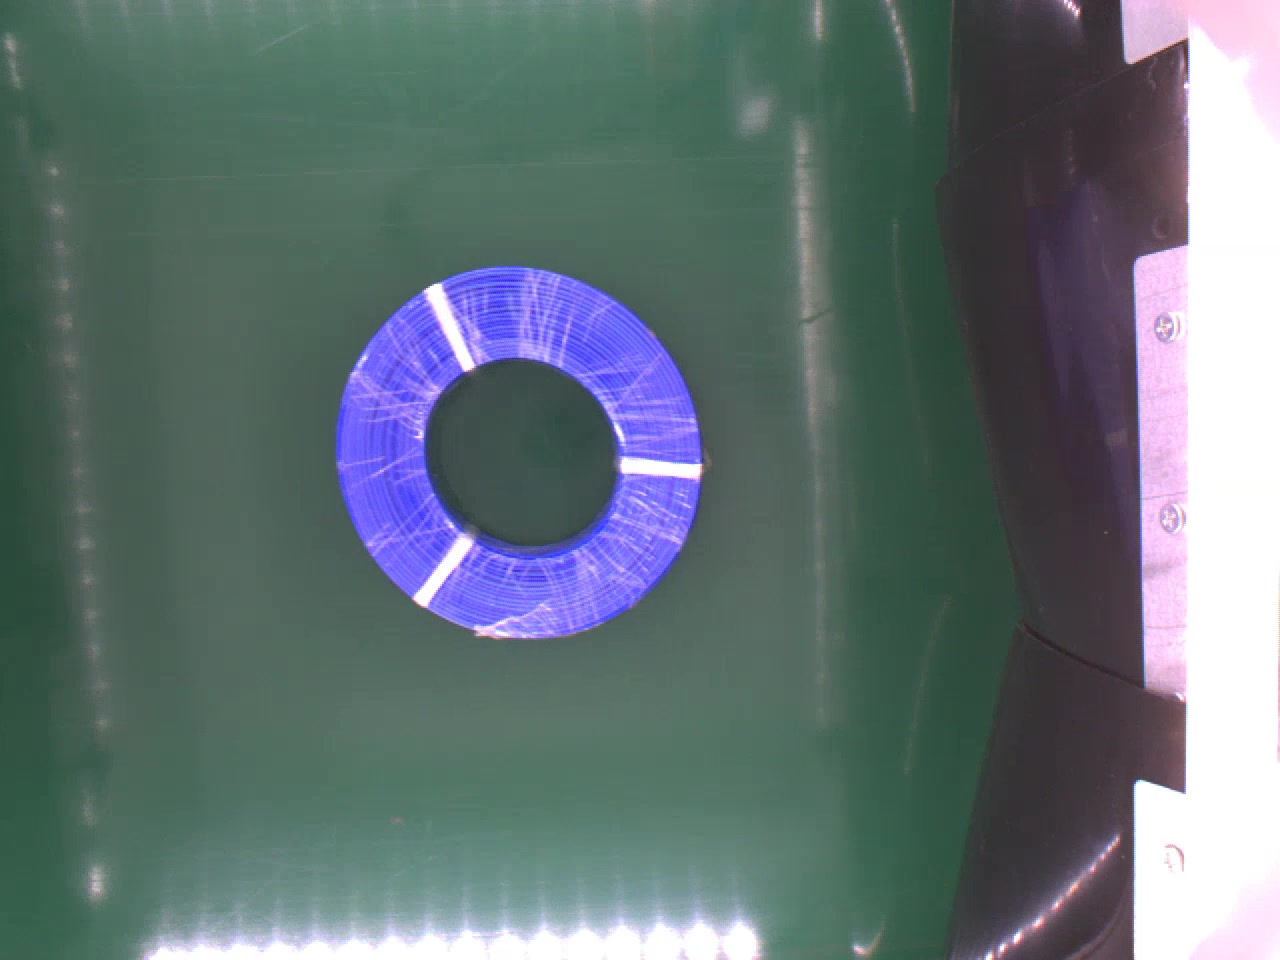blue: (335, 262, 711, 647)
